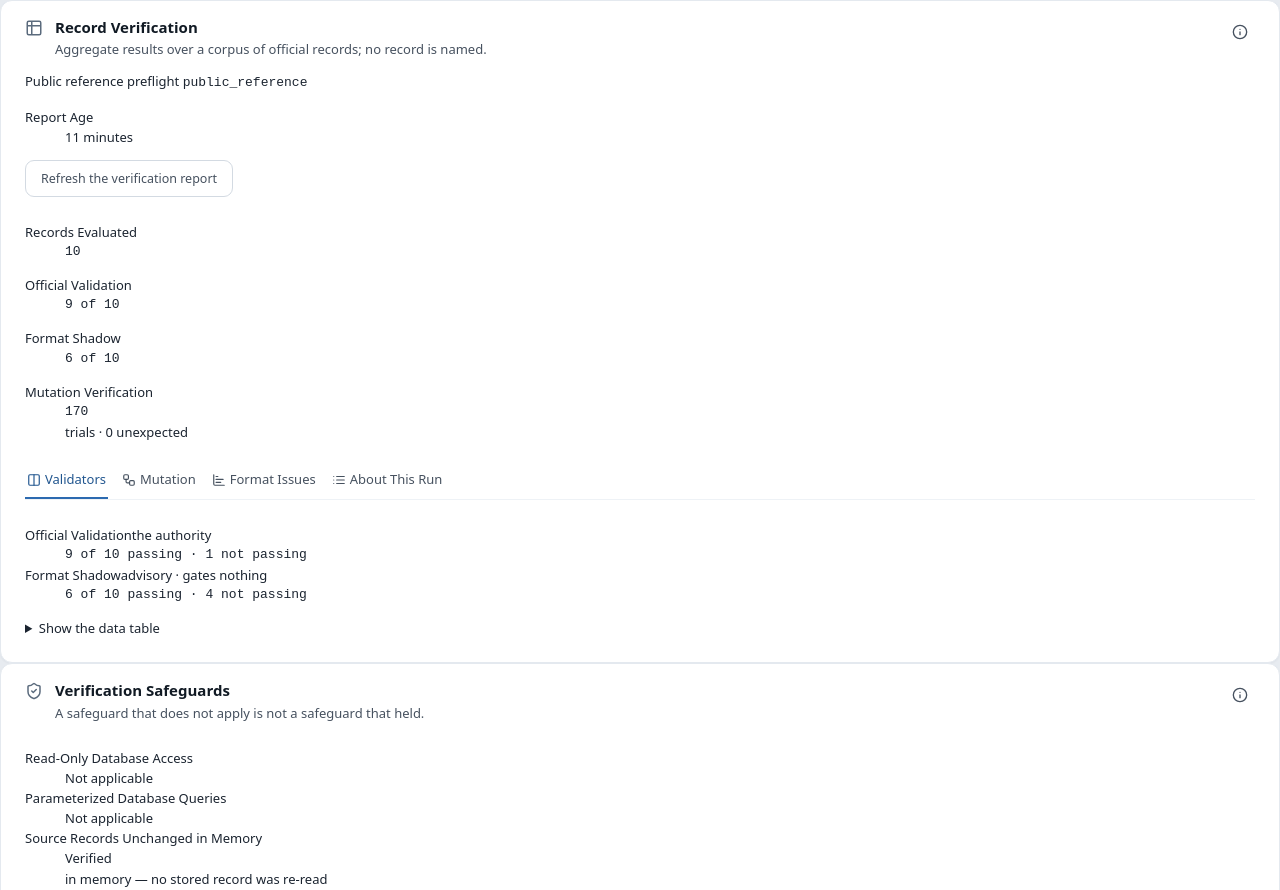
Test: runtime states › FAILED REFRESH — keeps the last good result, says so, and announces it
Click the button "Refresh the verification report".
click(129, 178)  # box [25, 160, 233, 197]
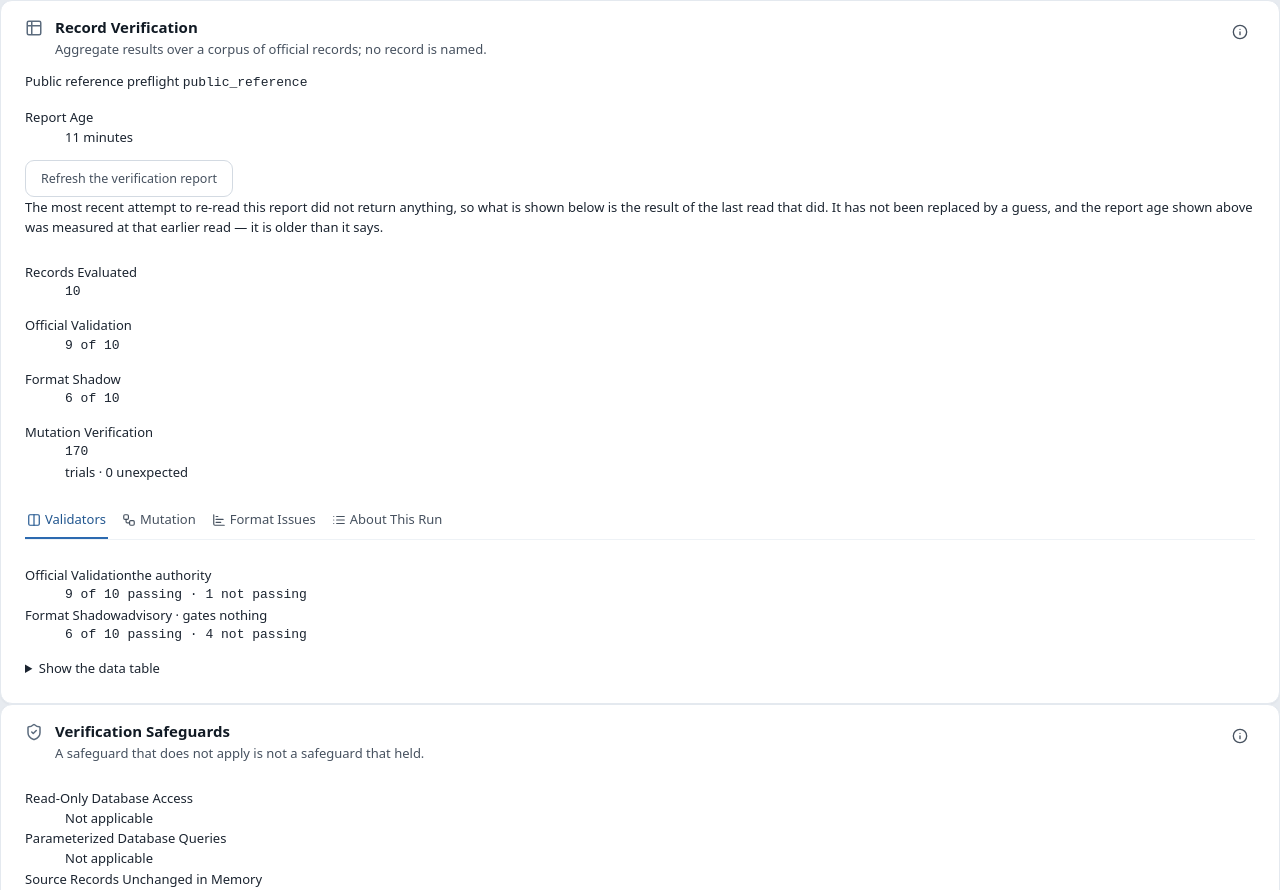
Expected: the text "what is shown below is the result of the last read that did" is shown, [25, 198, 1253, 236]
Expected: the text "older than it says" is shown, [25, 198, 1253, 236]
Expected: the text "the report age shown above was measured at that earlier read" is shown, [25, 198, 1253, 236]
